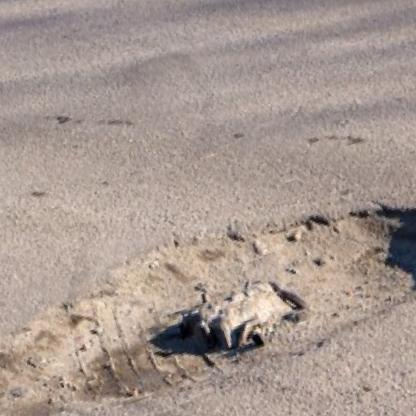pothole: (0, 165, 416, 416)
